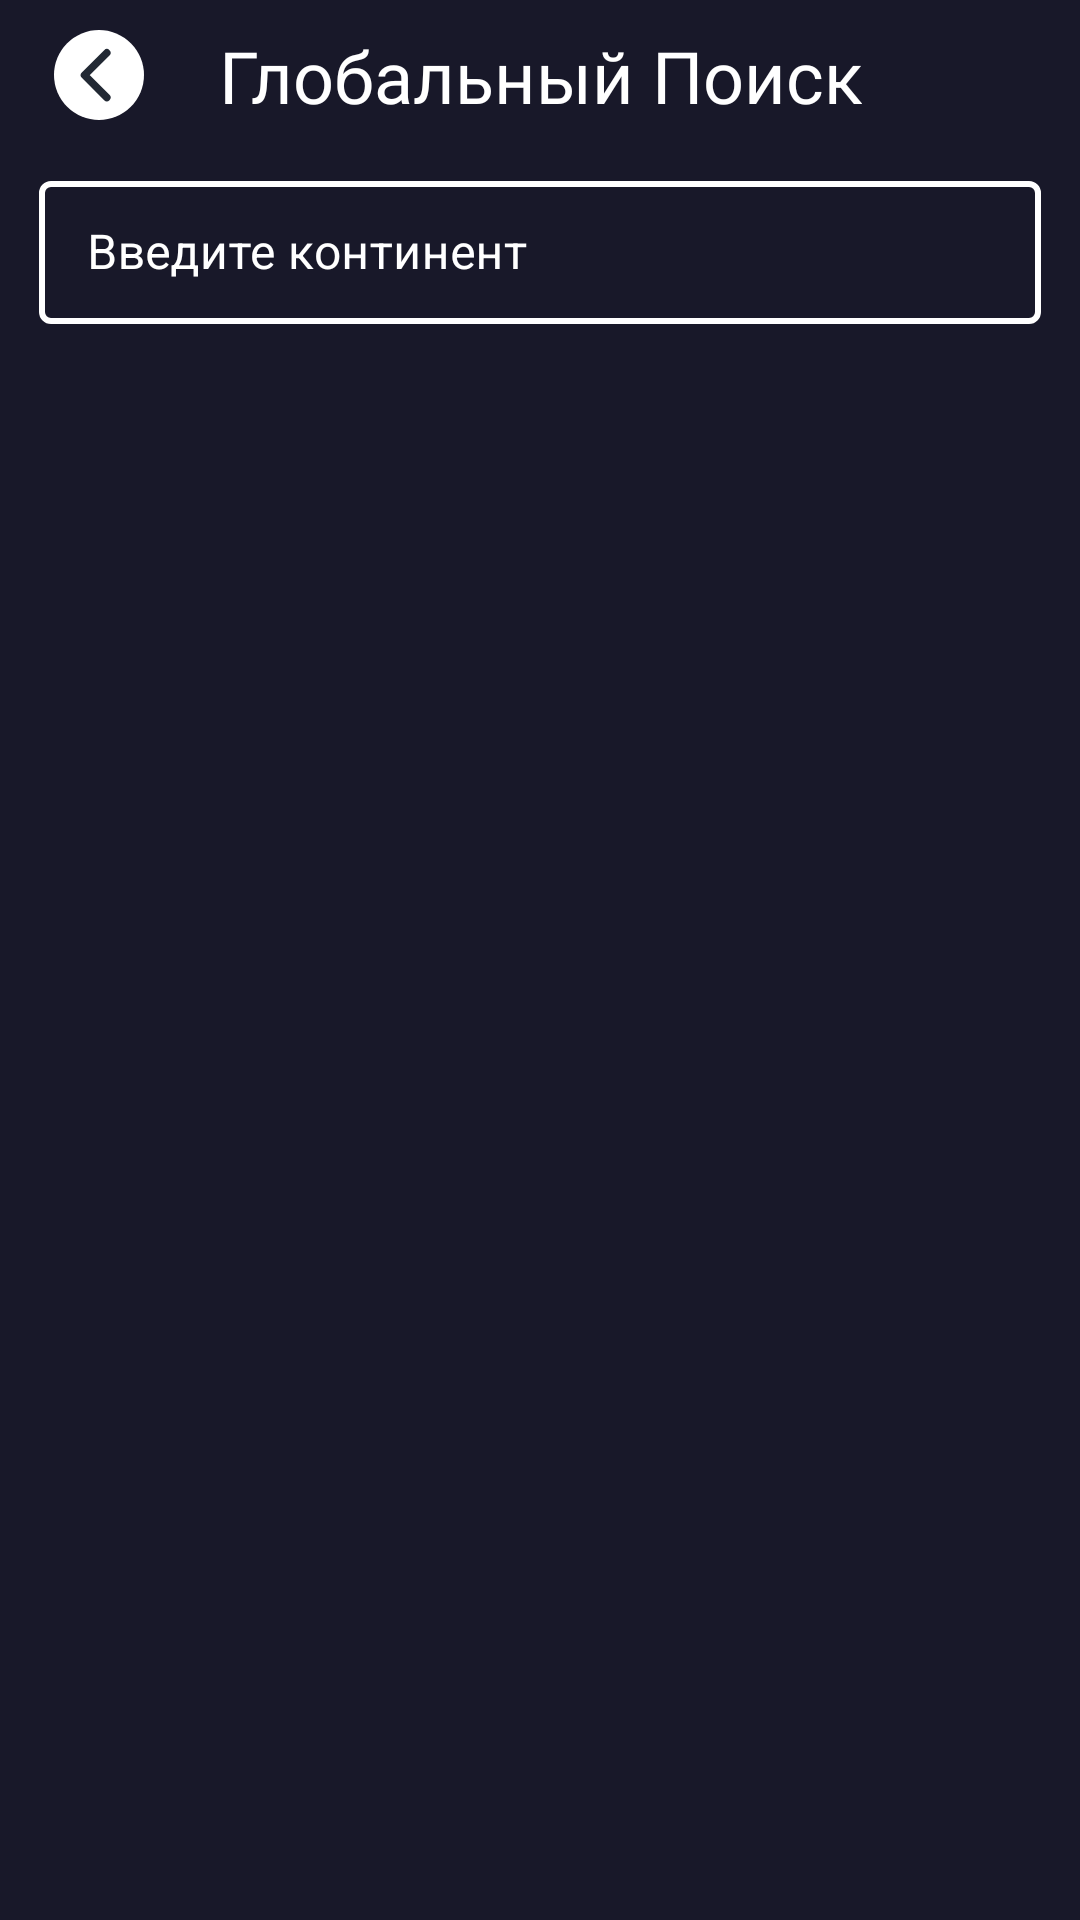

Icons on this 1080px x 1920px Android screen, each with its box as bbox=[x1, y1, x2, y2]:
arrow back: bbox=[54, 30, 144, 120]
